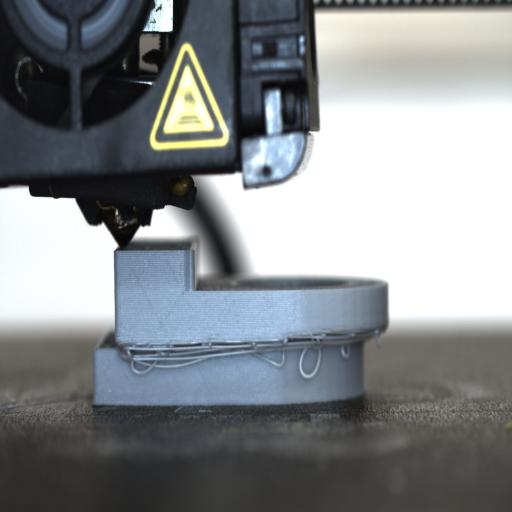layer_shift: (96, 326, 390, 355)
